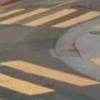crosswalks: (0, 58, 100, 96), (1, 9, 100, 27)
